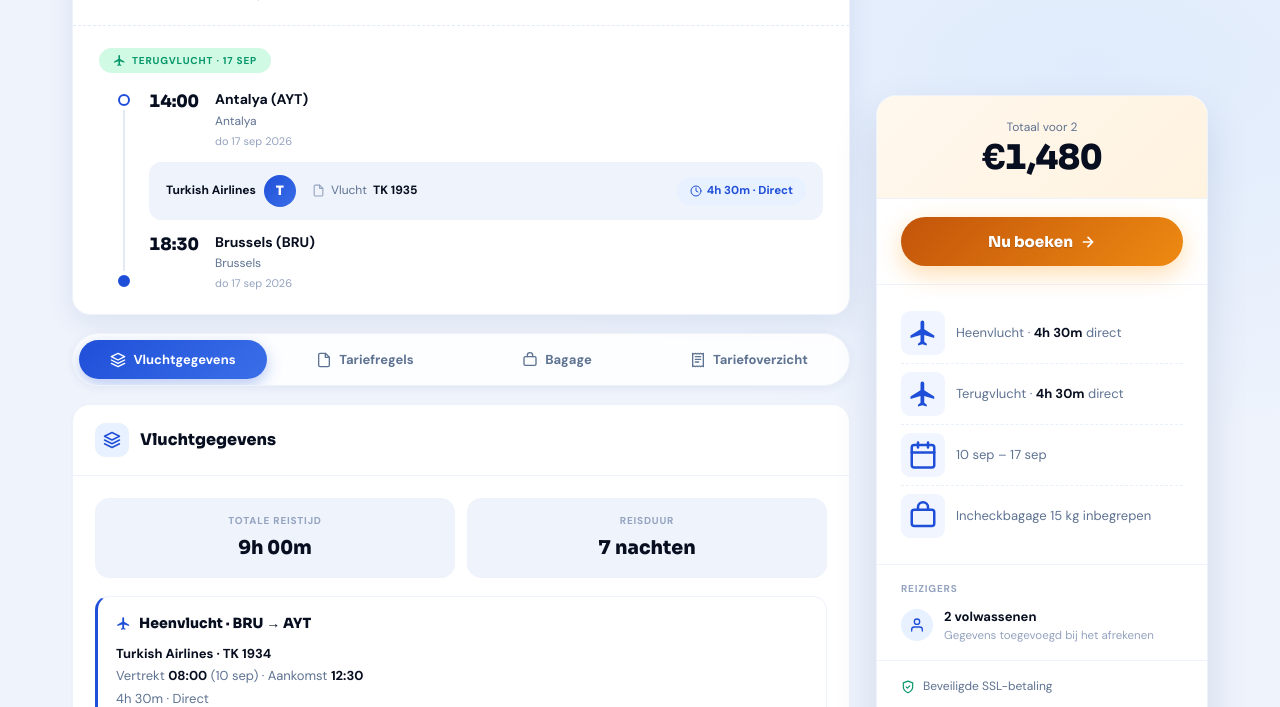
FlightDetail — the price it shows › breaks the fare down from the supplier rows, with no invented surcharge line
(page scrolled)
Click the button "Tariefoverzicht": coordinates (749, 360) [655, 340, 843, 379]
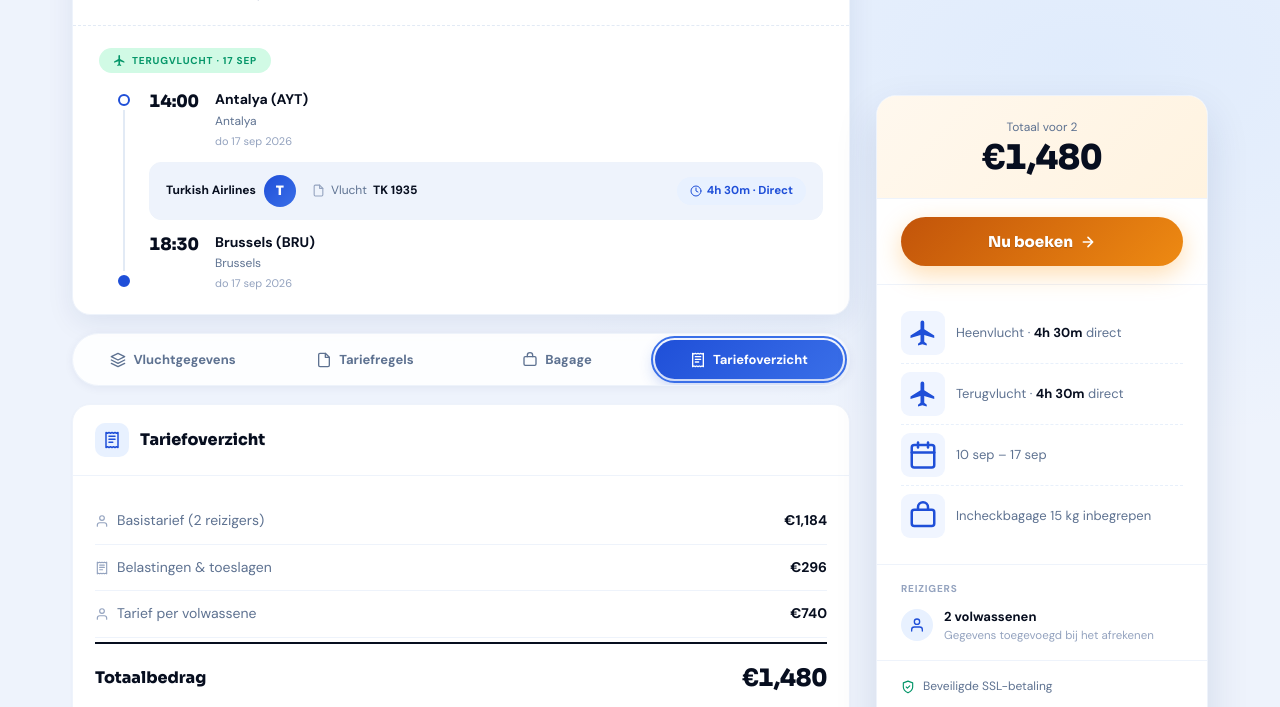
Result: the text "Basistarief (2 reizigers)" is shown at [95, 510, 264, 532]
Result: the text "€1,184" is shown at [784, 510, 827, 532]
Result: the text "€296" is shown at [790, 557, 827, 578]
